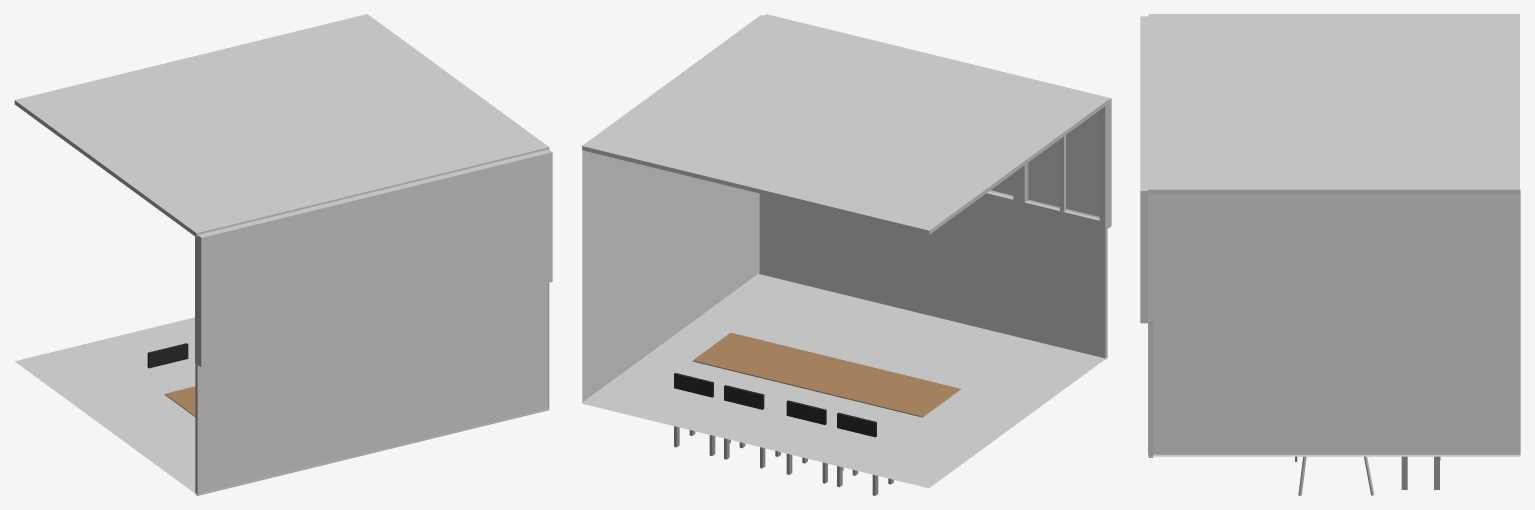
3 views of the same model, side by side, from view 1: azimuth 30°, elevation 25°; view 2: azimuth 150°, elevation 25°; view 3: azimuth 270°, elevation 25° (orthographic). The views are drawn at different scales.
Visible parts, largest first — view 1: polySurface34, polySurface35, polySurface38, polySurface24, polySurface32, polySurface28, polySurface30, polySurface11; view 2: polySurface34, polySurface38, polySurface35, polySurface37, pCube13, polySurface24, polySurface26, polySurface28, polySurface11, polySurface9, polySurface10, polySurface7; view 3: polySurface37, polySurface34, polySurface32, polySurface38, polySurface35, polySurface7.
Part boxes in pixels (x1,y1,x2,y2): polySurface34: (14, 14, 549, 237); polySurface35: (195, 283, 549, 495); polySurface38: (15, 317, 549, 494); polySurface24: (195, 213, 289, 367); polySurface32: (461, 149, 552, 303); polySurface28: (285, 192, 376, 345); polySurface30: (373, 171, 464, 324); polySurface11: (147, 343, 188, 368); polySurface34: (582, 15, 1108, 234); polySurface38: (581, 273, 1108, 488); polySurface35: (759, 193, 1107, 359); polySurface37: (582, 147, 759, 402); pCube13: (693, 332, 960, 416); polySurface24: (1019, 77, 1111, 230); polySurface26: (1027, 112, 1098, 217); polySurface28: (937, 56, 1024, 209); polySurface11: (837, 412, 893, 495); polySurface9: (724, 385, 780, 468); polySurface10: (786, 400, 843, 483); polySurface7: (674, 373, 730, 455); polySurface37: (1148, 189, 1520, 454); polySurface34: (1148, 14, 1519, 193); polySurface32: (1140, 147, 1148, 323); polySurface38: (1148, 454, 1520, 456); polySurface35: (1148, 320, 1153, 457); polySurface7: (1401, 456, 1440, 489).
Size of the model in its own units: 4.67 by 4.06 by 4.26.
